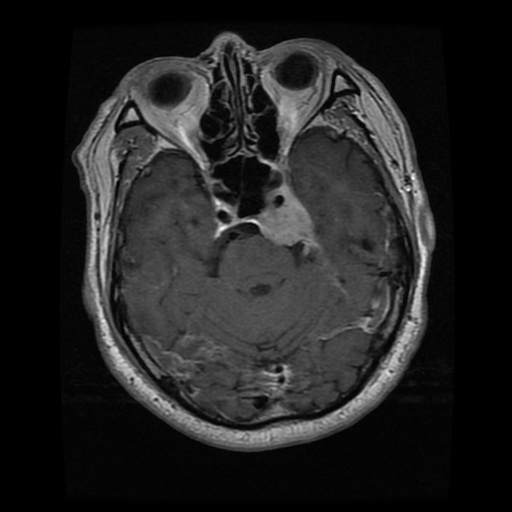meningioma: (258, 185, 313, 245)
